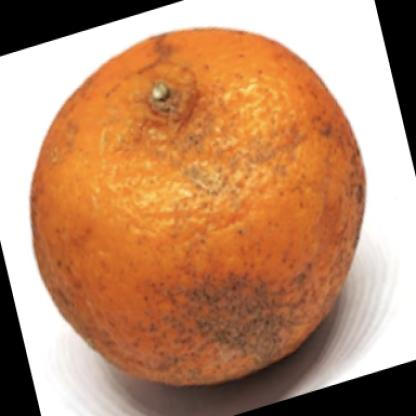rotten: (33, 27, 366, 387)
